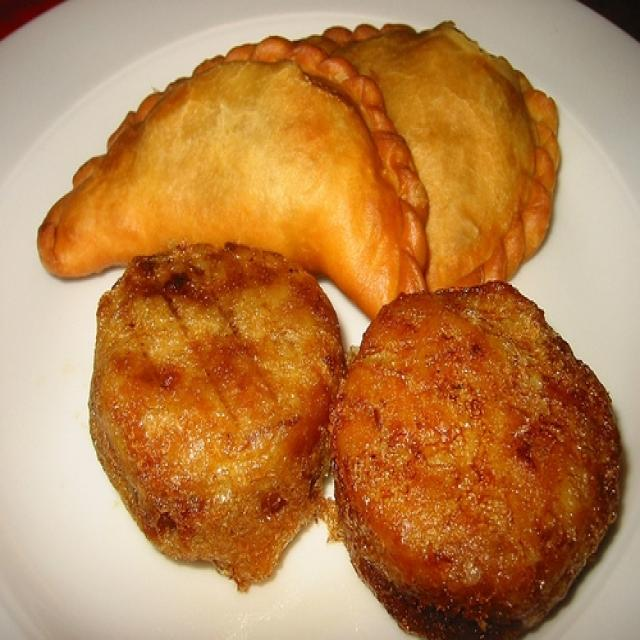炸货点心: (23, 24, 626, 628)
